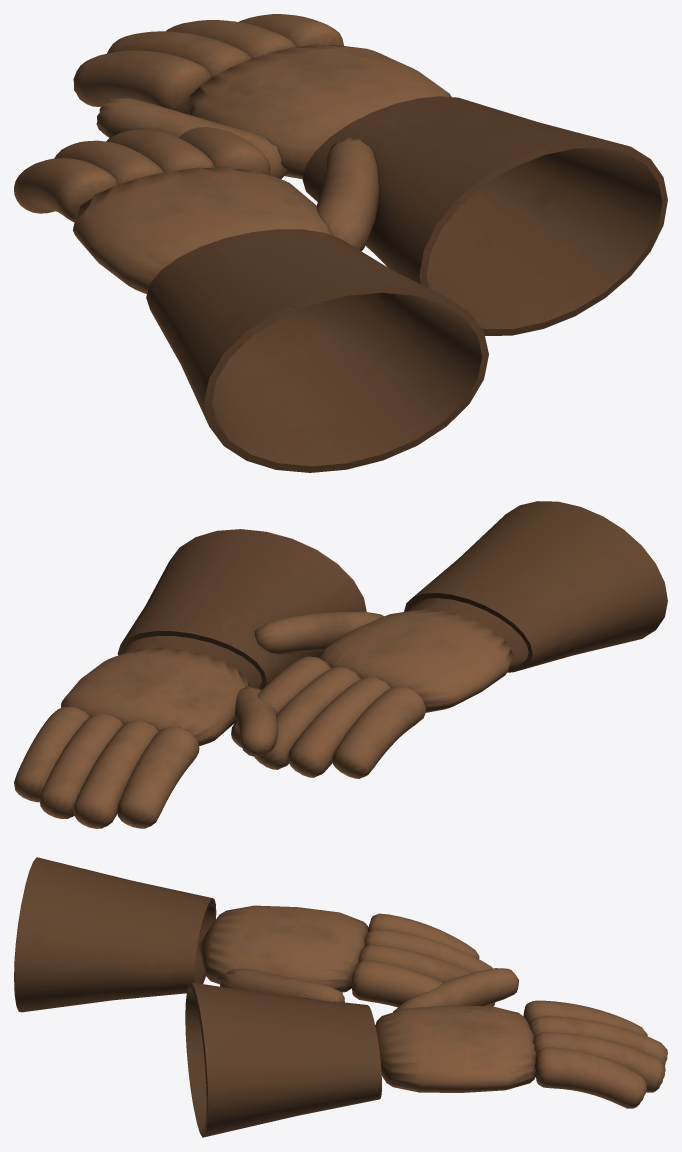
Rendered from gloves.glb.
3 renders of one model, top to bottom at view 1: azimuth 30°, elevation 25°; view 2: azimuth 150°, elevation 25°; view 3: azimuth 270°, elevation 25°, orthographic. The views are drawn at different scales.
Visible parts, largest first — view 1: gloves; view 2: gloves; view 3: gloves.
Part boxes in pixels (x1,y1,x2,y2): gloves: (14,14,667,472); gloves: (14,501,667,828); gloves: (14,857,667,1137).
Size of the model in its own units: 0.2509 by 0.0849 by 0.3493.
1 material, 1 textured.
